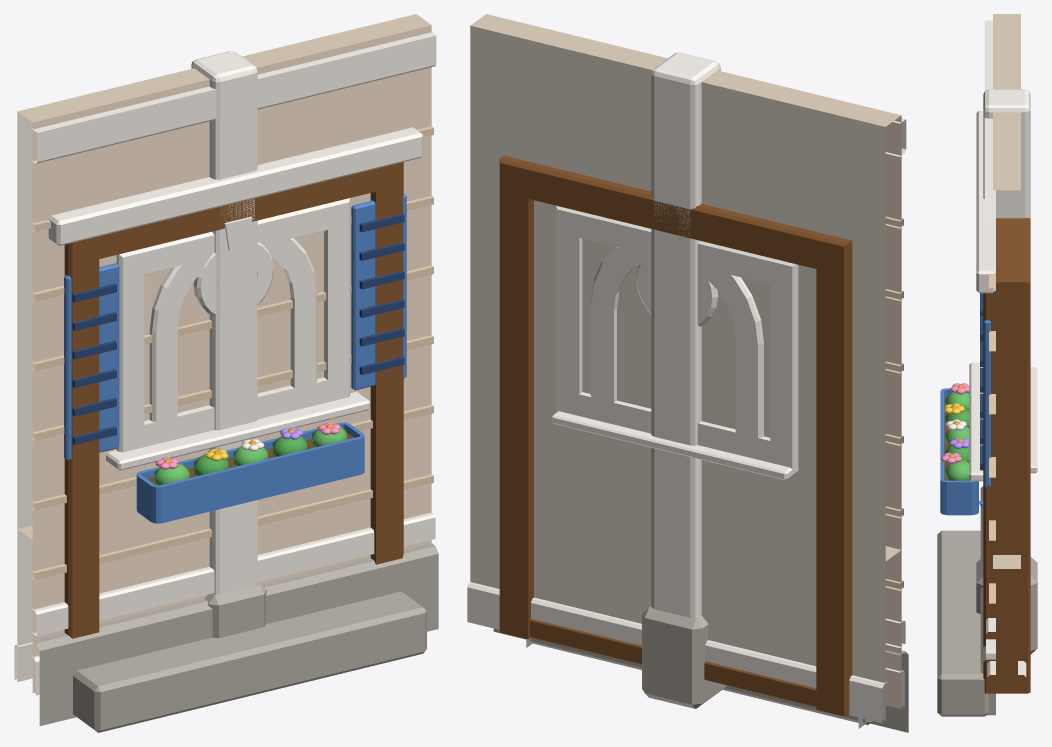
Rendered from casa-paredes.glb.
3 views of the same model, side by side, from view 1: azimuth 30°, elevation 25°; view 2: azimuth 150°, elevation 25°; view 3: azimuth 270°, elevation 25° (orthographic). The views are drawn at different scales.
Visible parts, largest first — view 1: parede-janela-grande-lambri, parede-porta-lambri, parede-janela-arco-lambri, quina-lambri, parede-janela-redonda-lambri, parede-porta-lambri-baixa, quina-lambri-baixa; view 2: parede-janela-grande-lambri, parede-janela-arco-lambri, parede-porta-lambri, quina-lambri, parede-janela-redonda-lambri, parede-porta-lambri-baixa, parede-lambri, quina-lambri-baixa; view 3: parede-porta-lambri, parede-janela-grande-lambri, parede-janela-arco-lambri, quina-lambri, parede-porta-lambri-baixa, parede-janela-redonda-lambri.
Boxes of the visible parts, box(x1,y1,x2,y2) form: parede-janela-grande-lambri: box(14, 14, 438, 725); parede-porta-lambri: box(14, 14, 438, 732); parede-janela-arco-lambri: box(84, 30, 372, 663); quina-lambri: box(191, 51, 266, 638); parede-janela-redonda-lambri: box(151, 47, 305, 645); parede-porta-lambri-baixa: box(18, 452, 403, 636); quina-lambri-baixa: box(209, 500, 257, 594); parede-janela-grande-lambri: box(467, 14, 908, 732); parede-janela-arco-lambri: box(536, 31, 831, 685); parede-porta-lambri: box(467, 14, 908, 731); quina-lambri: box(642, 52, 726, 708); parede-janela-redonda-lambri: box(605, 48, 761, 654); parede-porta-lambri-baixa: box(499, 469, 900, 715); parede-lambri: box(611, 246, 747, 429); quina-lambri-baixa: box(651, 509, 696, 617); parede-porta-lambri: box(937, 14, 1030, 716); parede-janela-grande-lambri: box(940, 14, 1037, 676); parede-janela-arco-lambri: box(969, 43, 1037, 543); quina-lambri: box(976, 89, 1037, 654); parede-porta-lambri-baixa: box(983, 552, 1030, 693); parede-janela-redonda-lambri: box(980, 72, 1020, 554).
Bounding box in the file's own units: 3 × 4.34 × 0.72.
